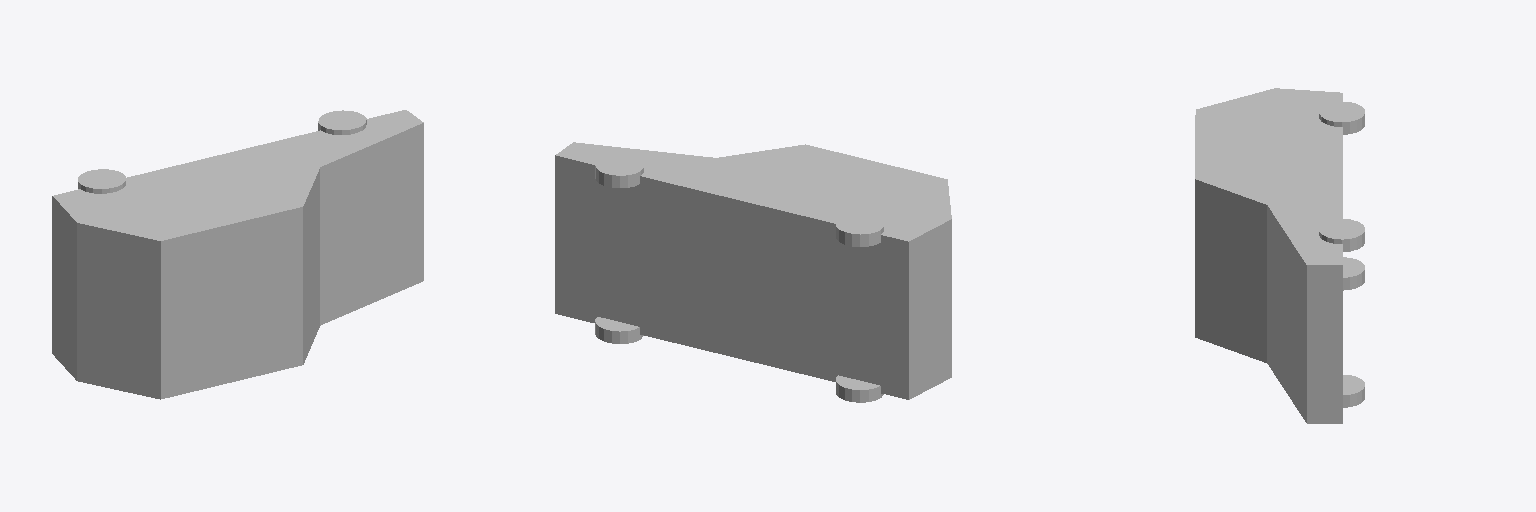
The model's file is movingObject1R.obj.
3 views of the same model, side by side, from view 1: azimuth 30°, elevation 25°; view 2: azimuth 150°, elevation 25°; view 3: azimuth 270°, elevation 25° (orthographic).
Visible parts, largest first — view 1: CAR_02; view 2: CAR_02; view 3: CAR_02.
Part boxes in pixels (left/top/right/bottom): CAR_02: left=52, top=110, right=423, bottom=399; CAR_02: left=555, top=142, right=951, bottom=402; CAR_02: left=1195, top=88, right=1364, bottom=423.
Size of the model in its own units: 1.24 by 0.5505 by 0.504.